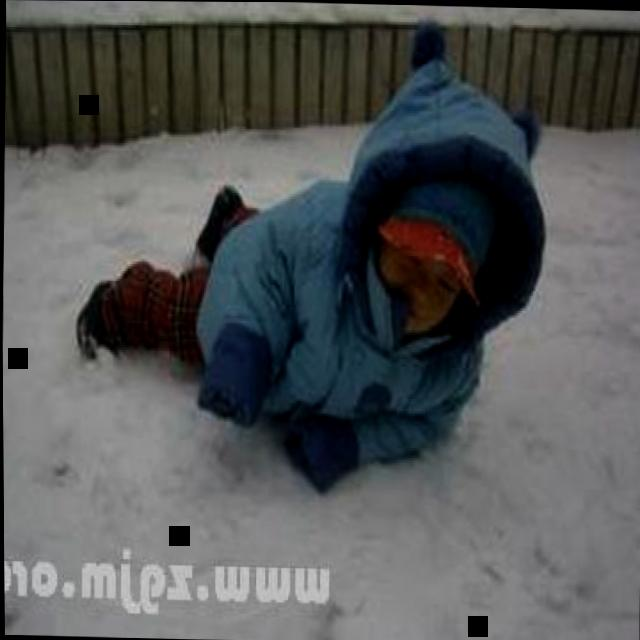Fall-Detected: (63, 13, 561, 492)
